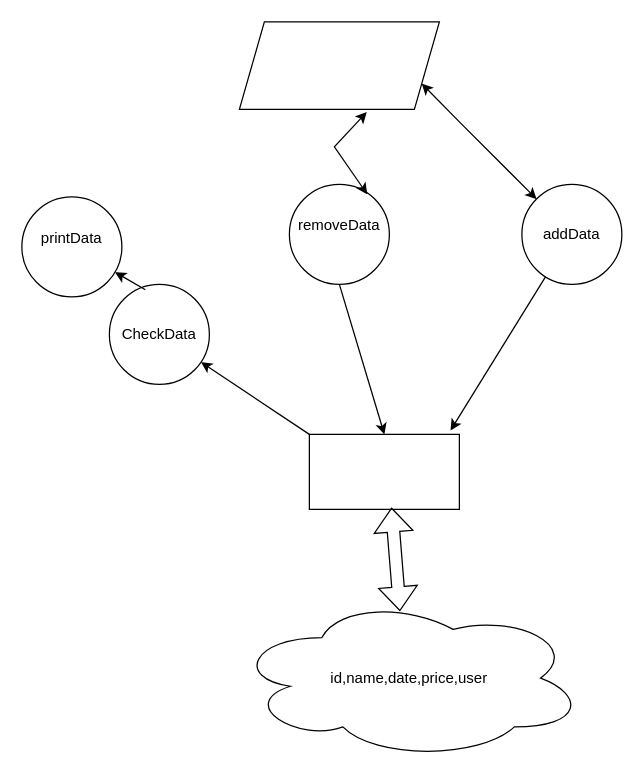
Some shapes in this 644 by 781 pixel diagram are drawn without their labels. Each missing label, with the centre of its shape:
temorarry structure: point (338, 65)
бд: point (383, 471)
